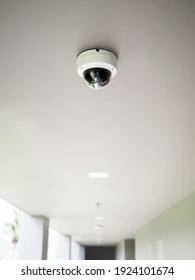360-Cam: (77, 44, 120, 90)
